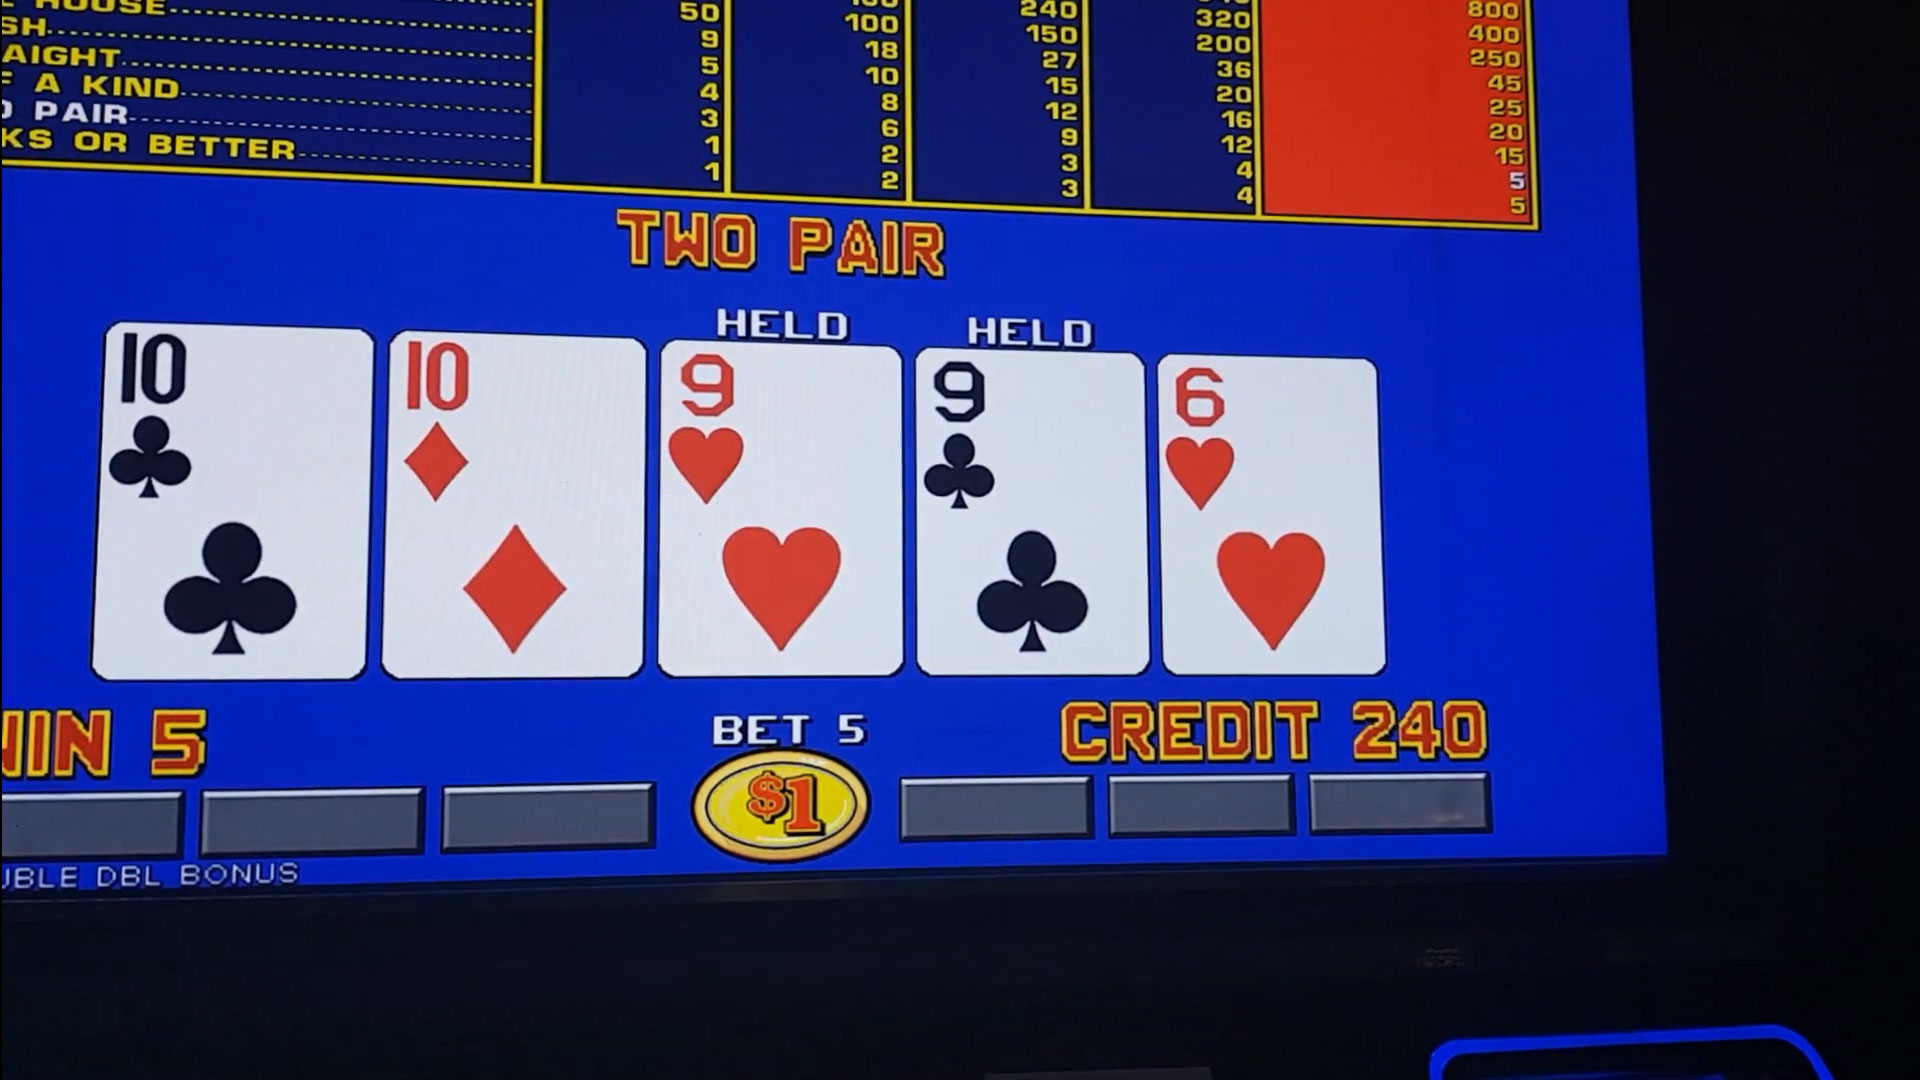C9: (916, 357, 1141, 521)
CT: (113, 331, 367, 513)
DT: (393, 344, 645, 517)
H6: (1167, 364, 1371, 524)
H9: (666, 348, 897, 524)
